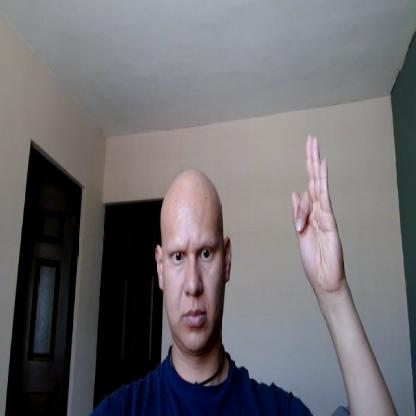F: (289, 130, 345, 294)
